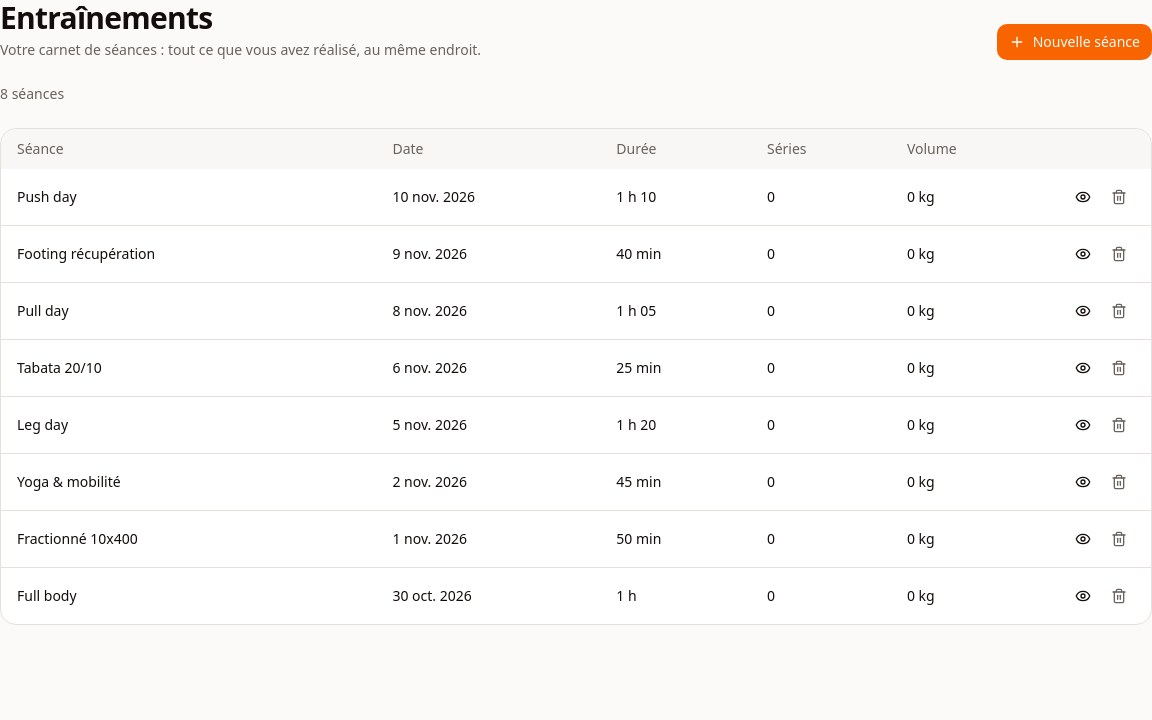
Test case: TrainingPage › valide le formulaire avant envoi
Click the button "Nouvelle séance" at (1074, 42), box [997,24,1151,60]
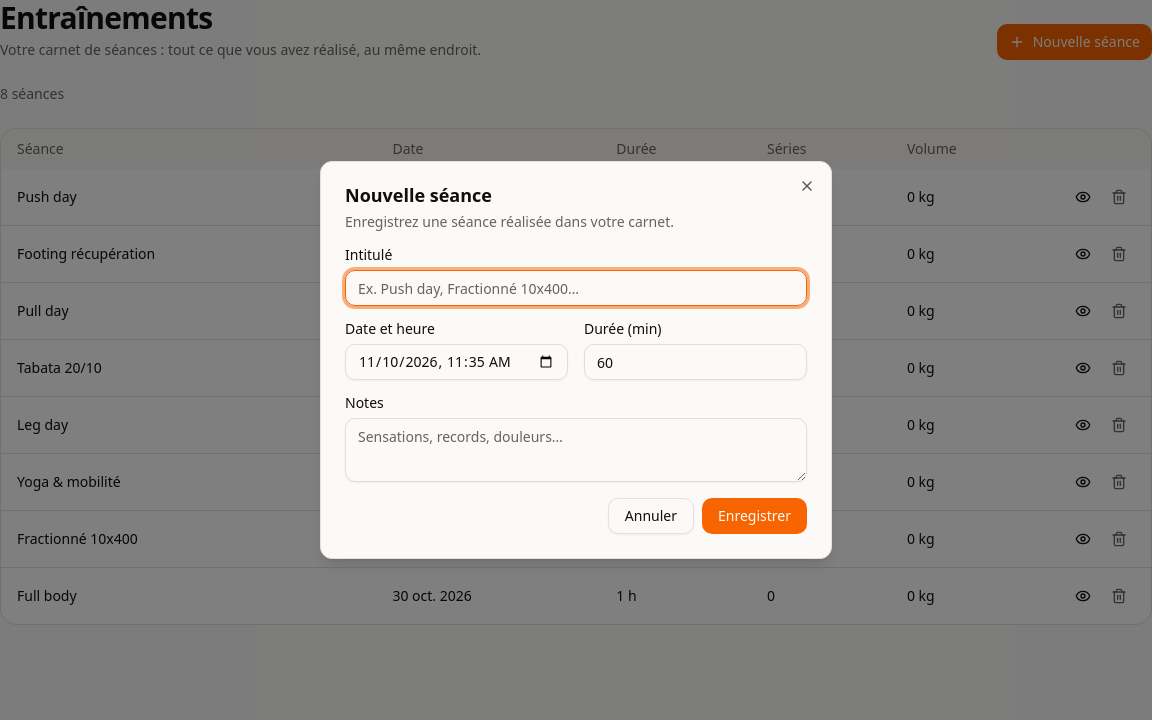
Click the button "Enregistrer" at (754, 516), box [702,498,807,534]
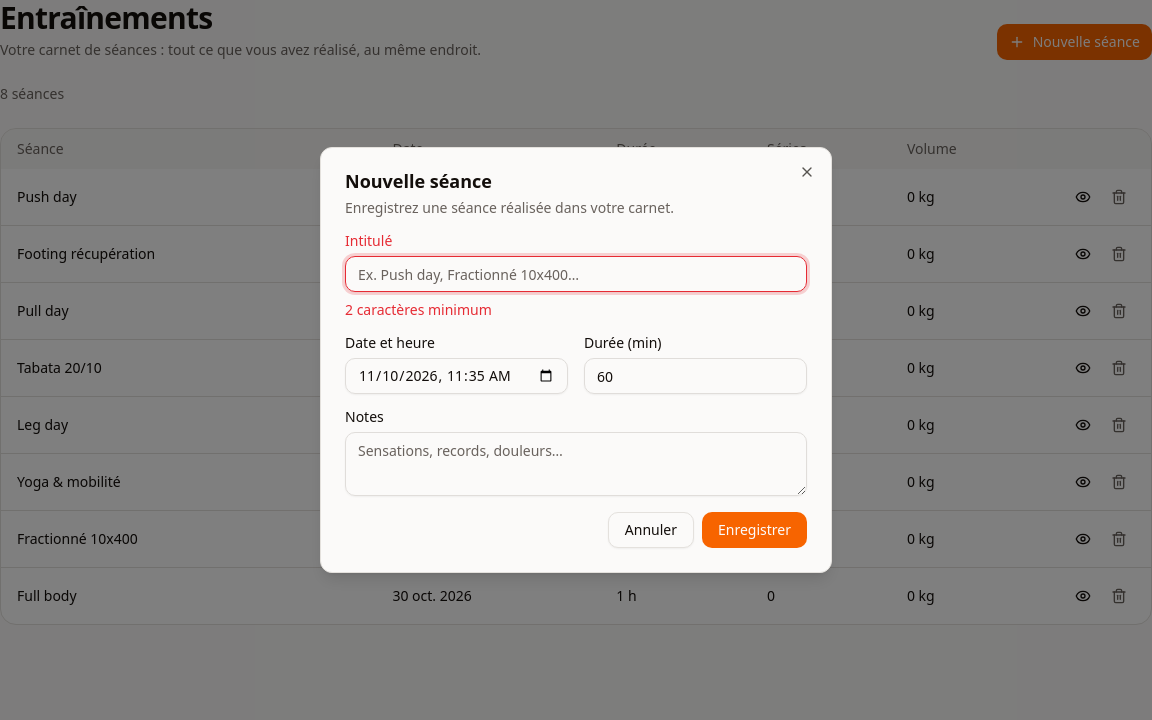
Expected: the text "2 caractères minimum" is shown, [345,300,492,319]
